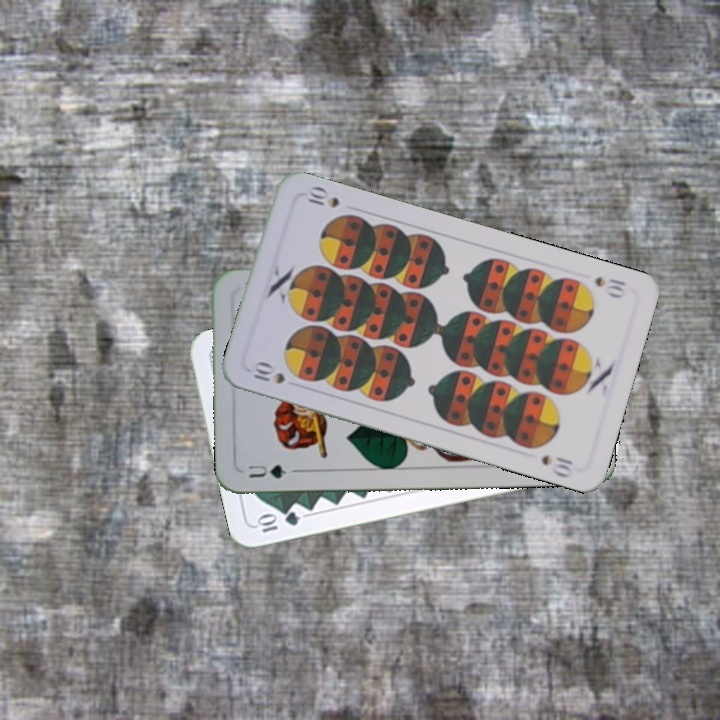G10: (253, 507, 302, 535)
GU: (244, 460, 289, 481)
S10: (591, 272, 629, 301), (249, 359, 288, 387)
